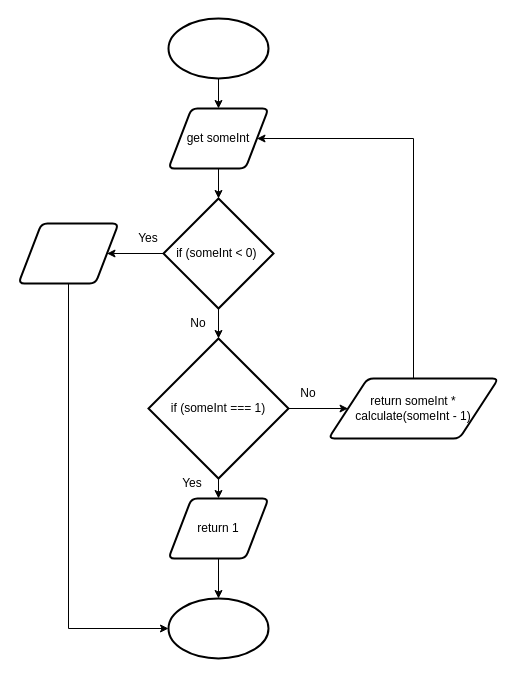
Some shapes in this 516 by 676 pixel diagram are drawn without their labels. Each missing label, with the centre of its shape:
return -1: pixel 68 253
Start: pixel 218 48
Stop: pixel 218 628
